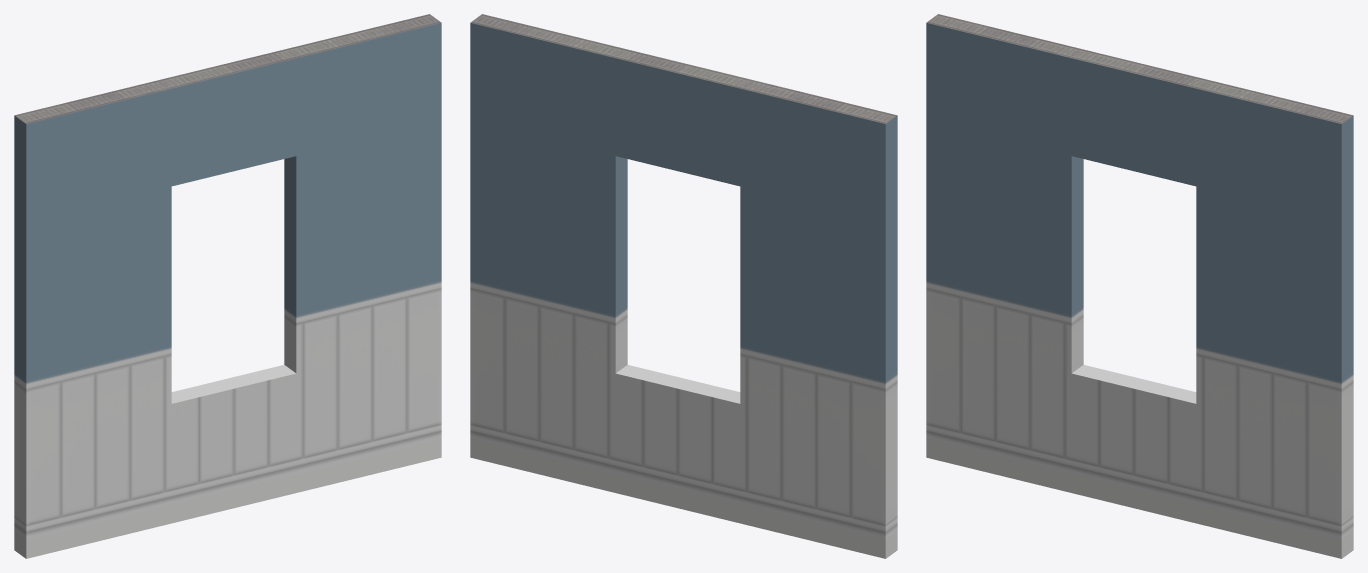
Rendered from wall7_4.fbx.
3 views of the same model, side by side, from view 1: azimuth 30°, elevation 25°; view 2: azimuth 150°, elevation 25°; view 3: azimuth 330°, elevation 25° (orthographic).
Visible parts, largest first — view 1: wall7_bathroom_d; view 2: wall7_bathroom_d; view 3: wall7_bathroom_d.
Part boxes in pixels (x1=…): wall7_bathroom_d: x1=14, y1=14, x2=441, y2=558; wall7_bathroom_d: x1=470, y1=14, x2=897, y2=558; wall7_bathroom_d: x1=926, y1=14, x2=1353, y2=558.
Bounding box in the file's own units: 400 × 400 × 20.
